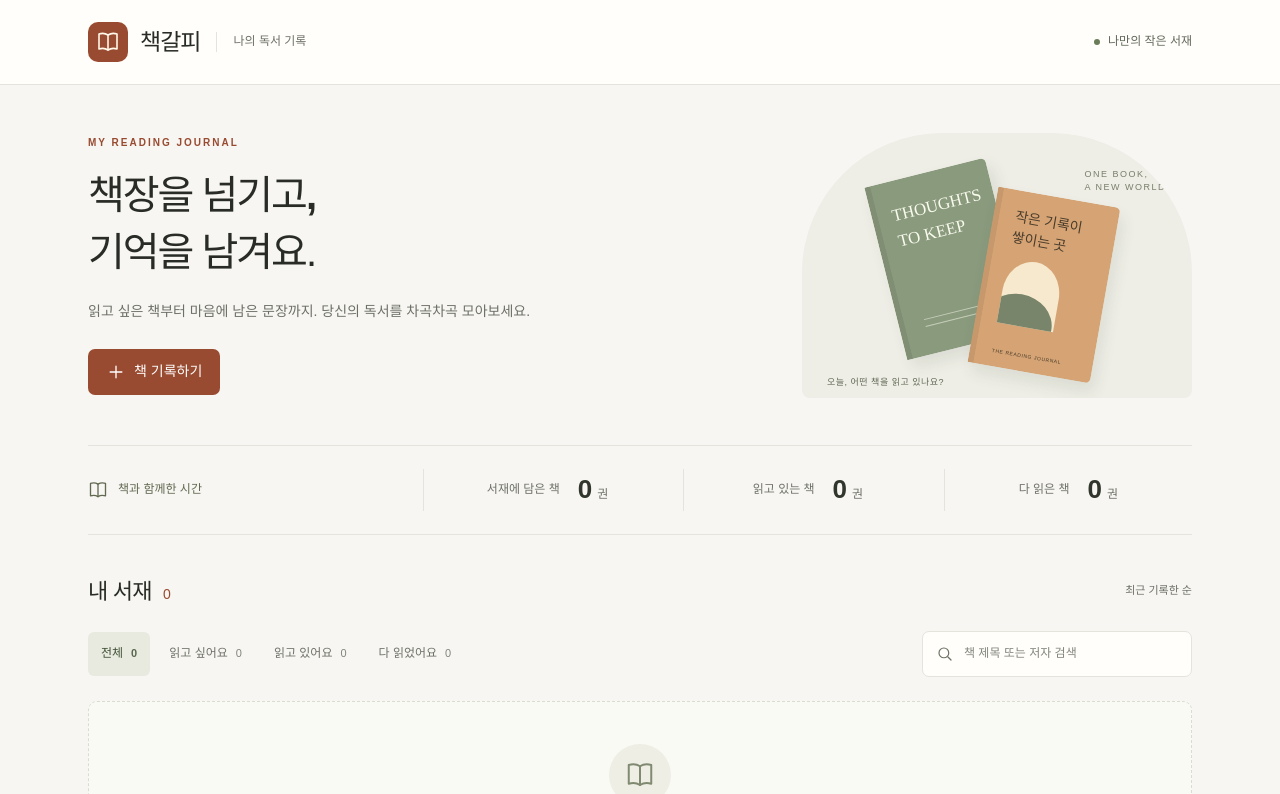
Test: 등록 → 검색 → 수정 → 재진입 → 삭제 흐름에서 저장된 값이 화면과 일치한다
This screenshot has width=1280, height=794.
Later steps or results of the test are not shown.
Click the button "책 기록하기" at {"x": 154, "y": 372}, box [88,349,220,395]
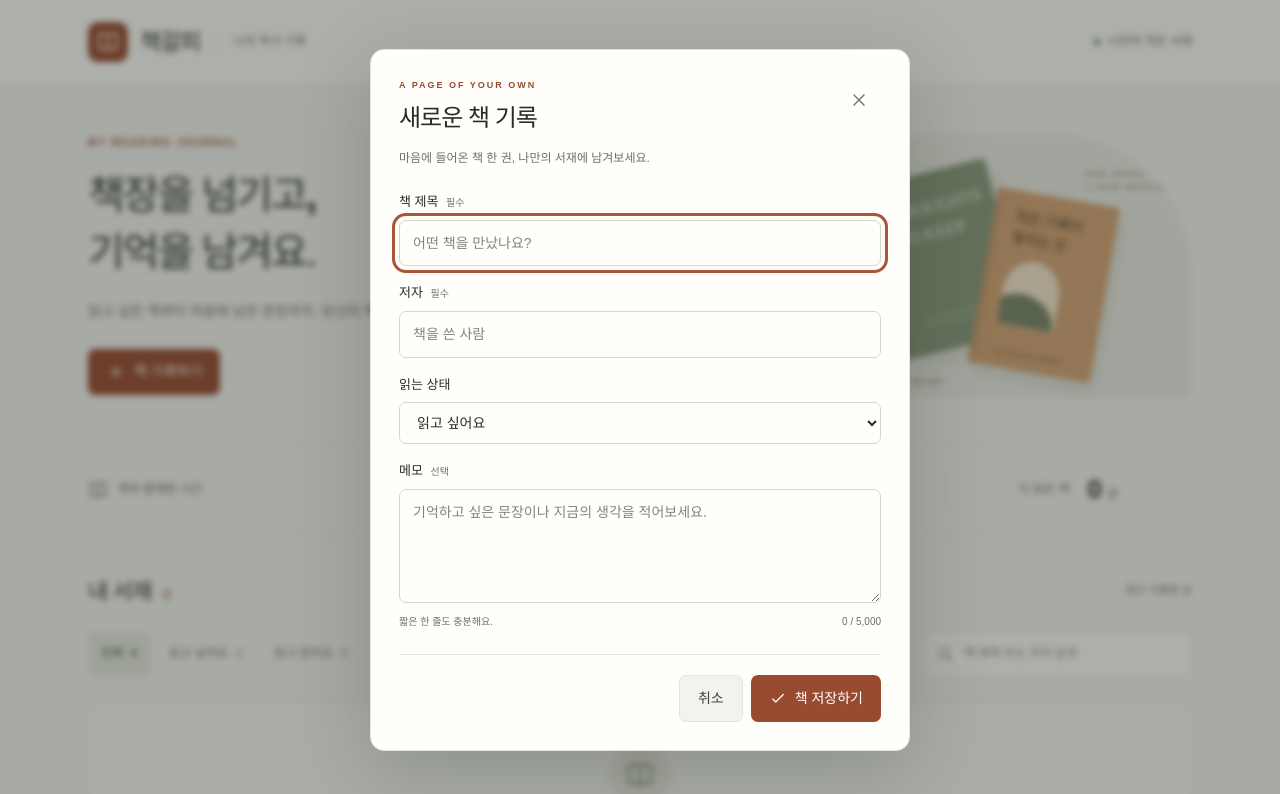
Type "소년이 온다" into the field labelled "책 제목 필수" at {"x": 640, "y": 243}, box [399,220,881,266]
Type "한강" into the field labelled "저자 필수" at {"x": 640, "y": 334}, box [399,311,881,358]
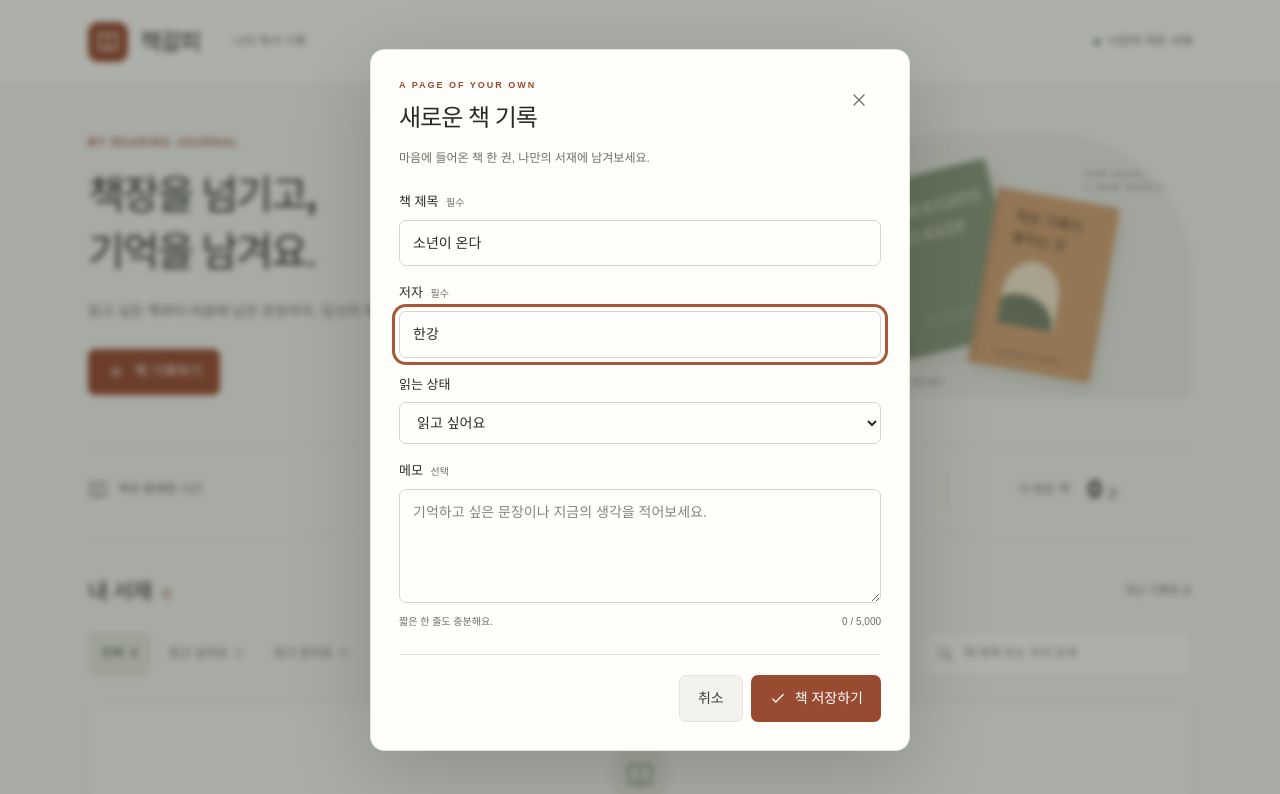
Select "읽고 있어요" in the dropdown labelled "읽는 상태" at {"x": 640, "y": 423}, box [399,402,881,444]
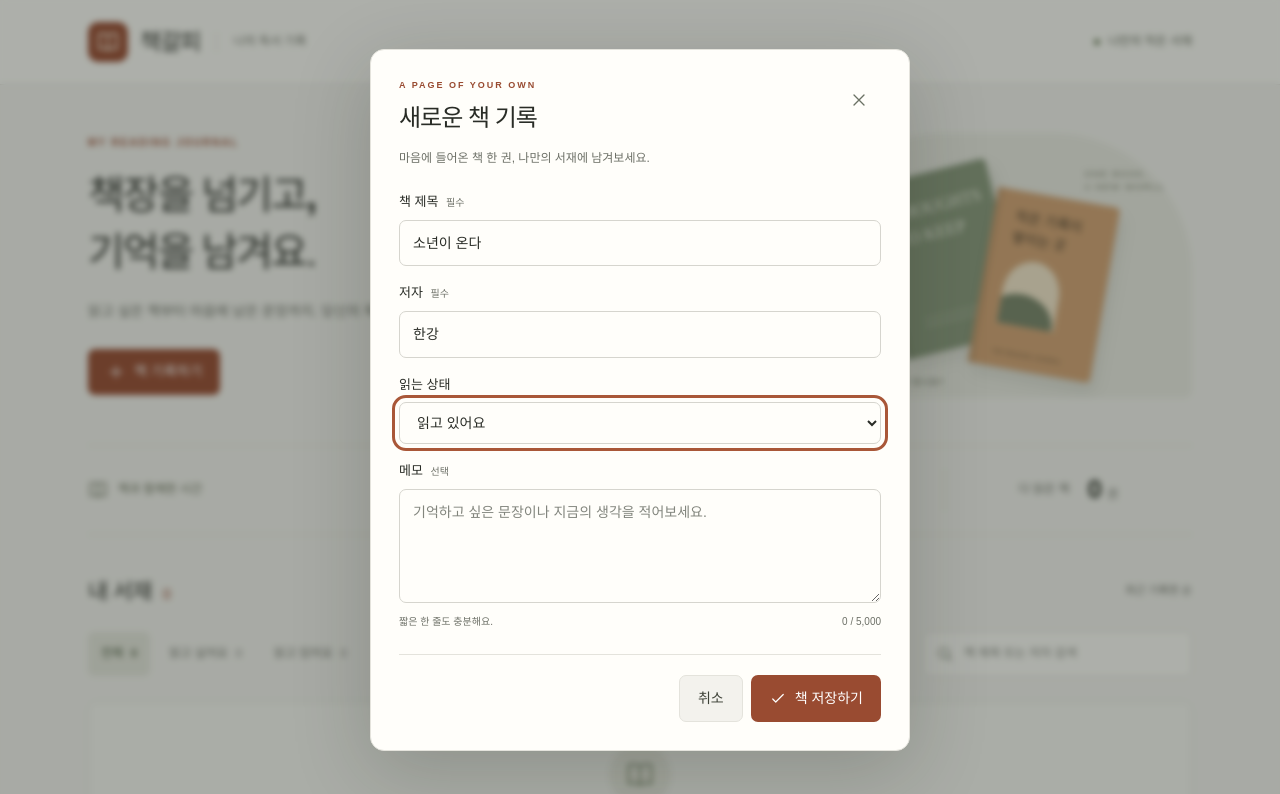
Type "오래 기억할 문장" into the text box labelled "메모 선택" at {"x": 640, "y": 546}, box [399,489,881,603]
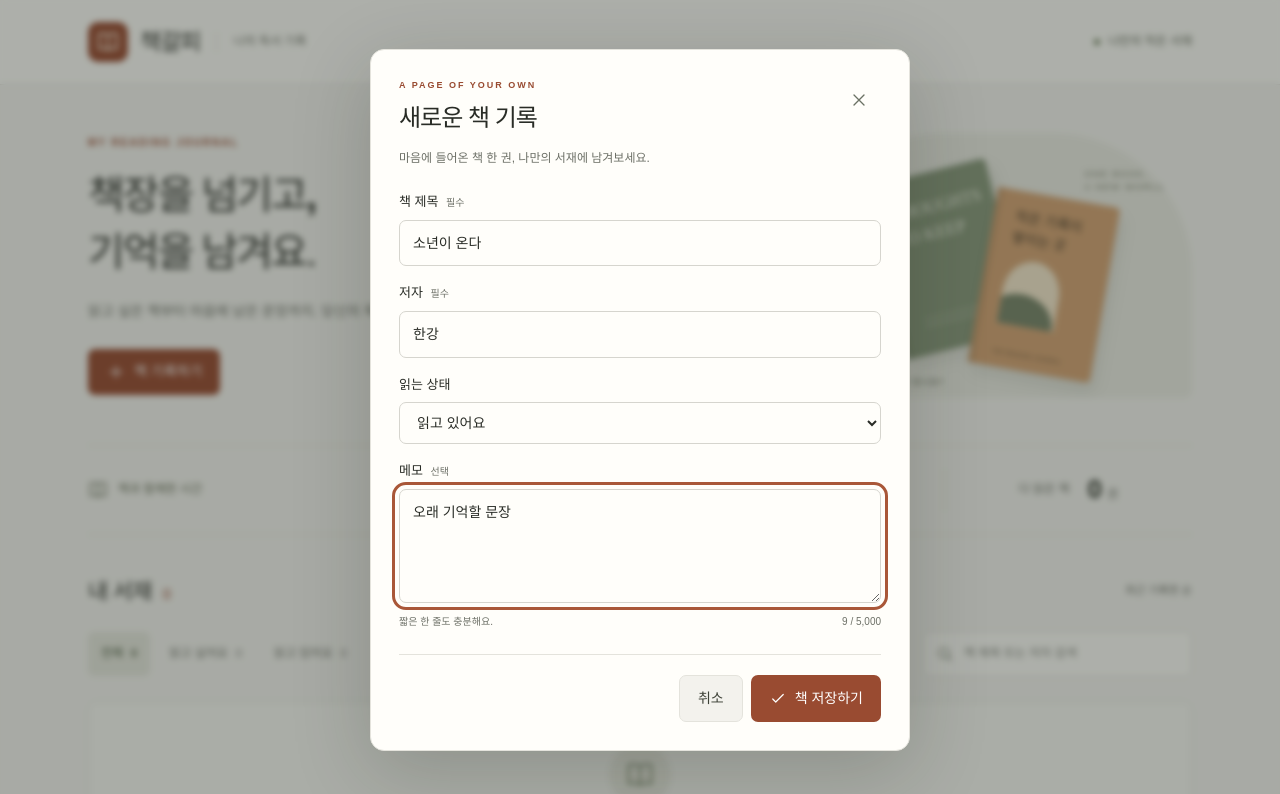
Click the button "책 저장하기" at {"x": 816, "y": 698}, box [751,675,881,722]
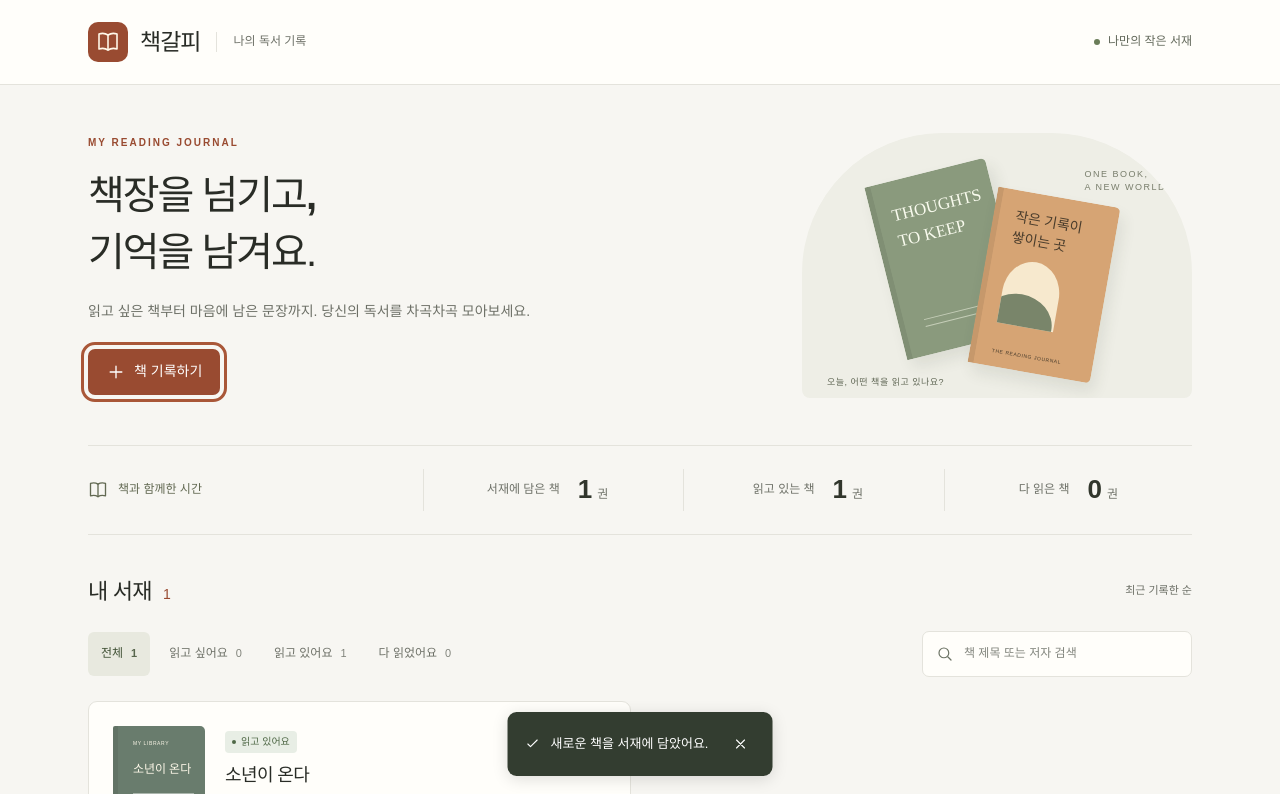
Expected: the heading "소년이 온다" is shown, [225,765,309,785]
Type "없는 책" into the search field at {"x": 1072, "y": 654}, box [954,632,1191,676]
(page scrolled)
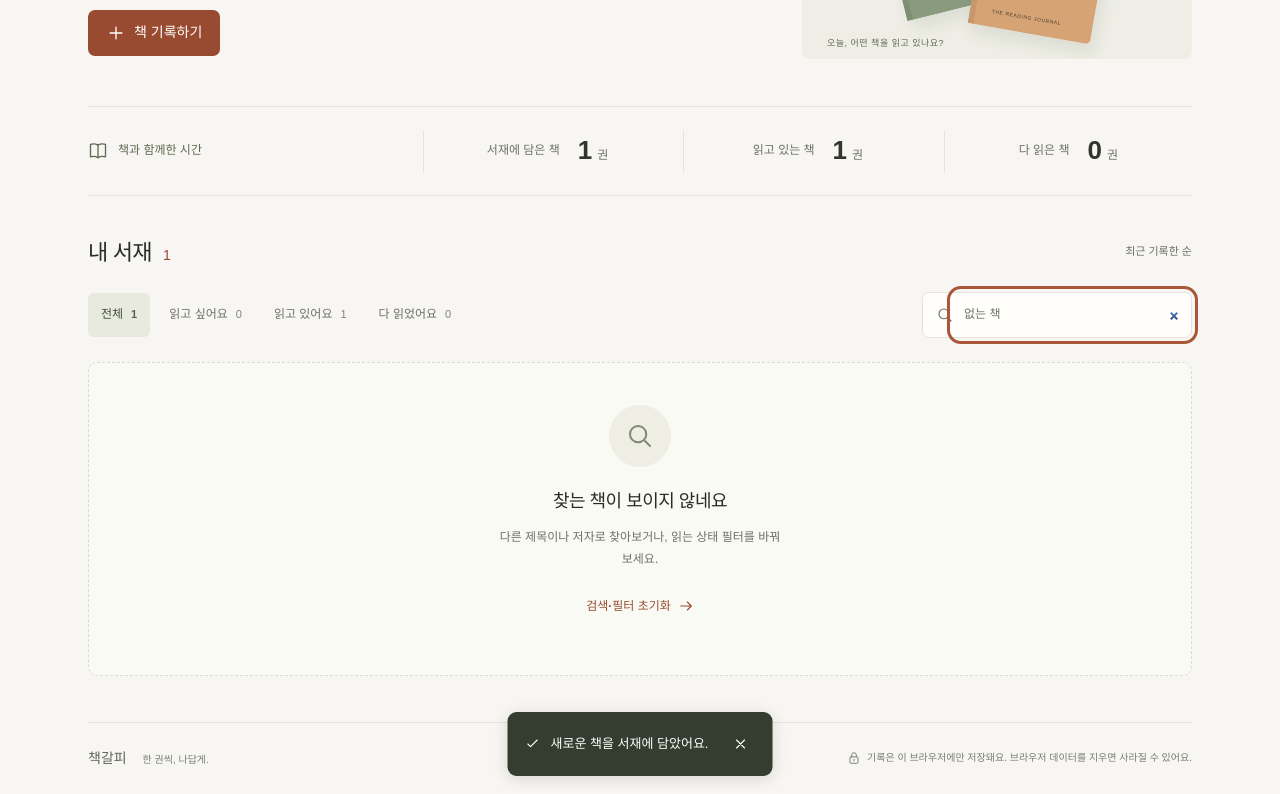
Expected: the heading "찾는 책이 보이지 않네요" is shown, [553,491,727,511]
